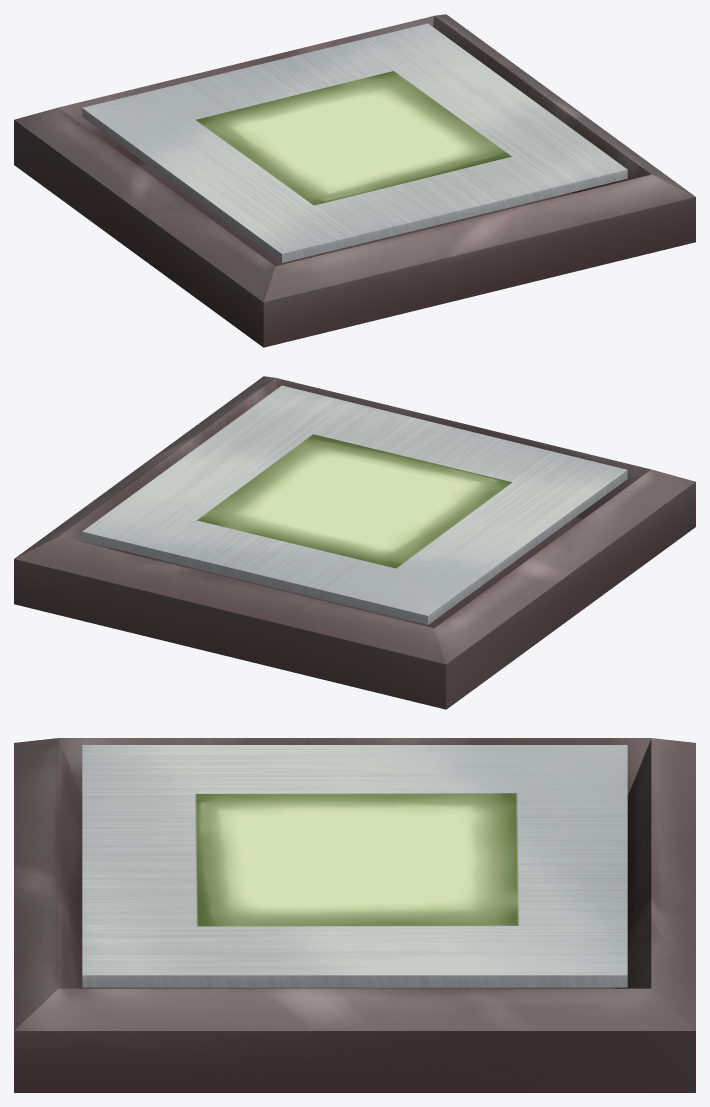
File: pressurep.fbx
The picture shows the model from 3 angles, top to bottom: view 1: azimuth 30°, elevation 25°; view 2: azimuth 150°, elevation 25°; view 3: azimuth 270°, elevation 25°; orthographic projection. The views are drawn at different scales.
Visible parts, largest first — view 1: pressurep; view 2: pressurep; view 3: pressurep.
Part boxes in pixels (x1,y1,x2,y2): pressurep: (14, 14, 695, 347); pressurep: (14, 376, 695, 709); pressurep: (14, 738, 695, 1092).
Size of the model in its own units: 1 by 0.1434 by 1.
Materials: 1 (1 with a texture image).
